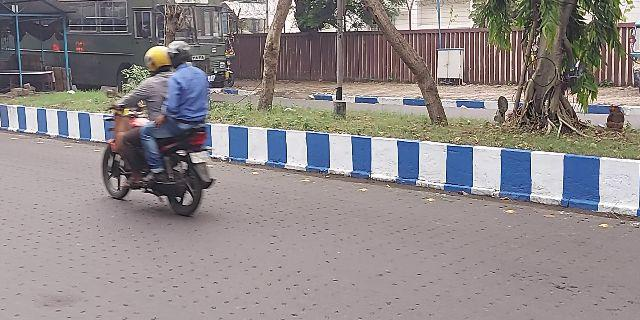Motorbike: (97, 46, 227, 217)
